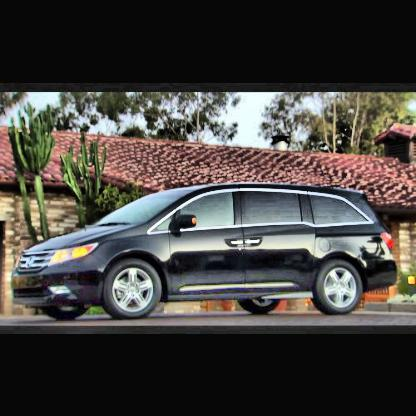Honda Odyssey Minivan 2012: (12, 184, 400, 320)
